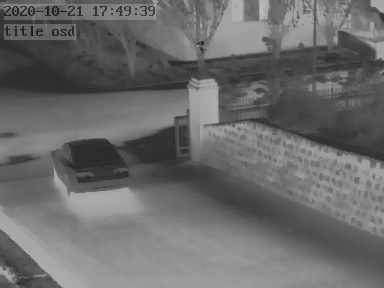vehicle: (49, 135, 130, 196)
